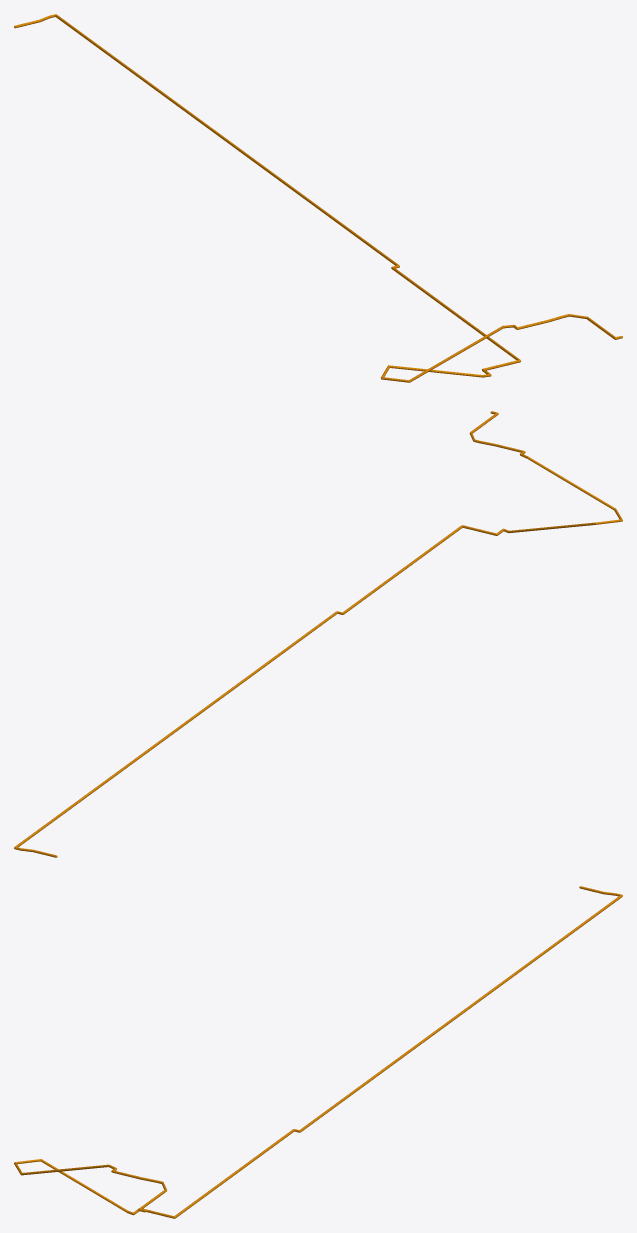
3 views of the same model, one above another, from view 1: azimuth 30°, elevation 25°; view 2: azimuth 150°, elevation 25°; view 3: azimuth 330°, elevation 25° (orthographic). The views are drawn at different scales.
Size of the model in its own units: 1563 by 520 by 7611.
